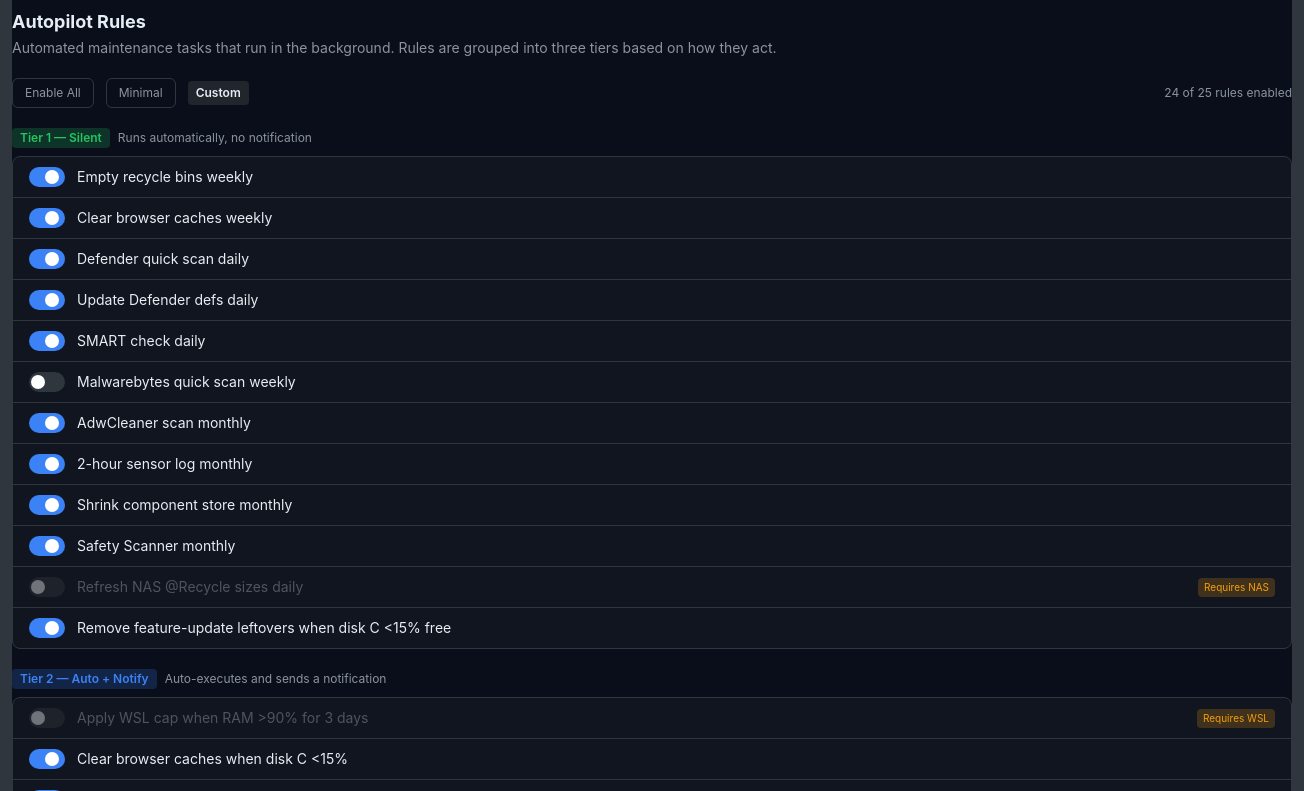
<W7AutopilotRules> › Minimal preset enables only tier 3 rules
Check: the heading "Autopilot Rules" is shown, box [12,11,146,32]
Click the button "Minimal": (141, 93) [106,78,176,108]
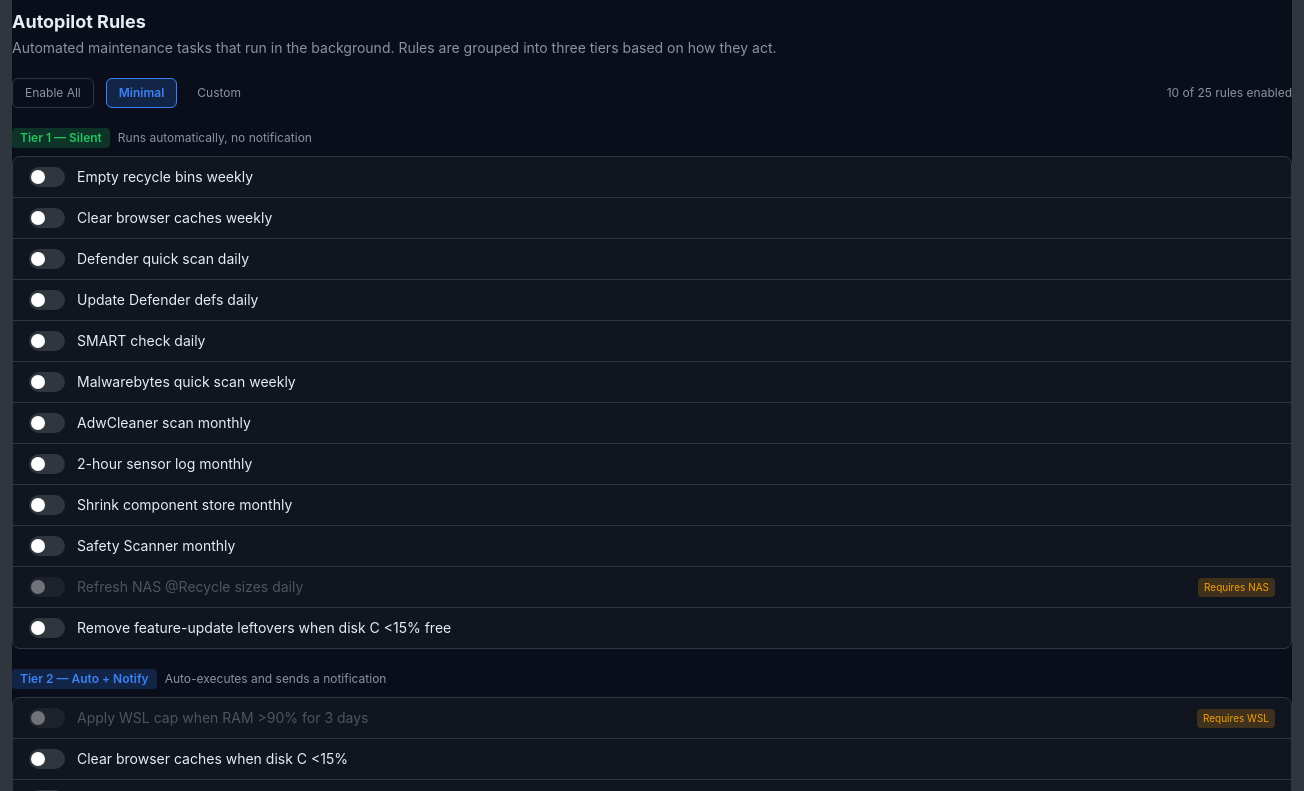
Check: the text "10 of 25 rules enabled" is shown, box [1167,85,1292,101]
